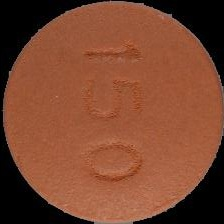0615-4513: (0, 0, 224, 224)
